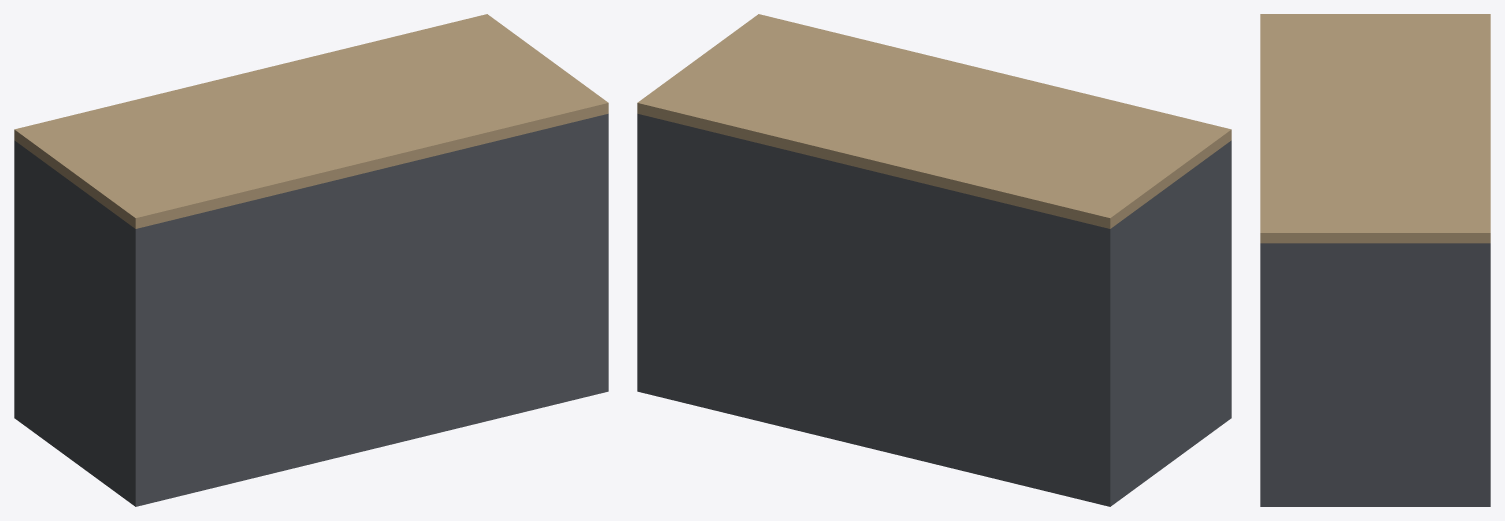
The model's file is counter_service_display_72.glb.
3 renders of one model, left to right at view 1: azimuth 30°, elevation 25°; view 2: azimuth 150°, elevation 25°; view 3: azimuth 270°, elevation 25°, orthographic. The views are drawn at different scales.
Bounding box in the file's own units: 1.83 × 1.07 × 0.8128.
